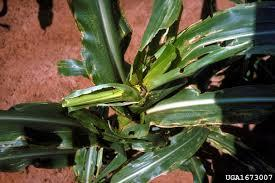fallarmy_worm: (137, 85, 148, 99)
